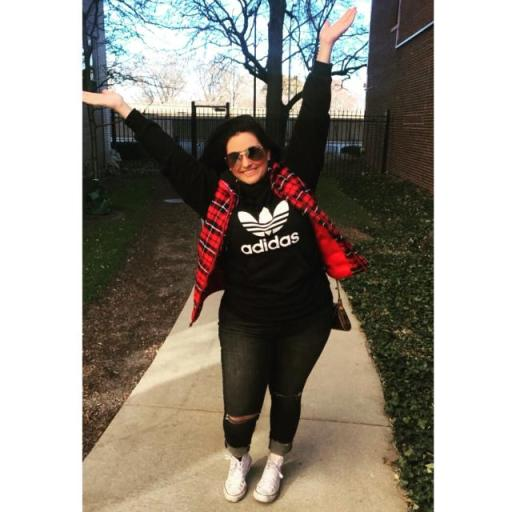Adidas: (234, 198, 301, 256)
